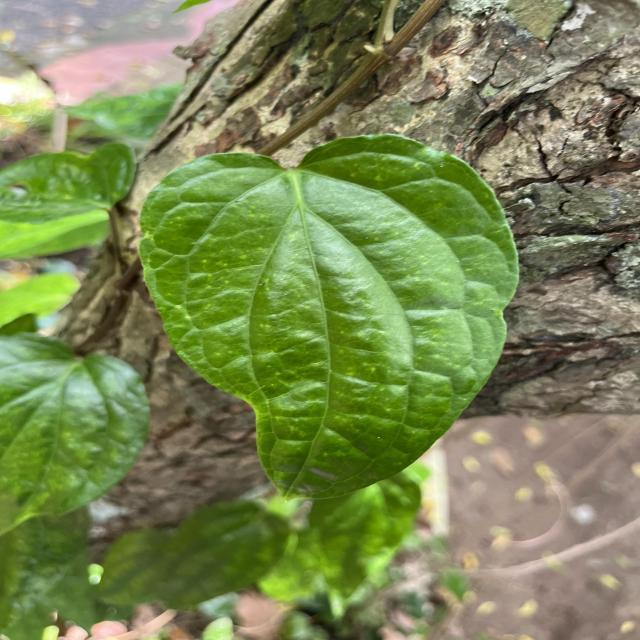Piper betle: (132, 130, 526, 508)
